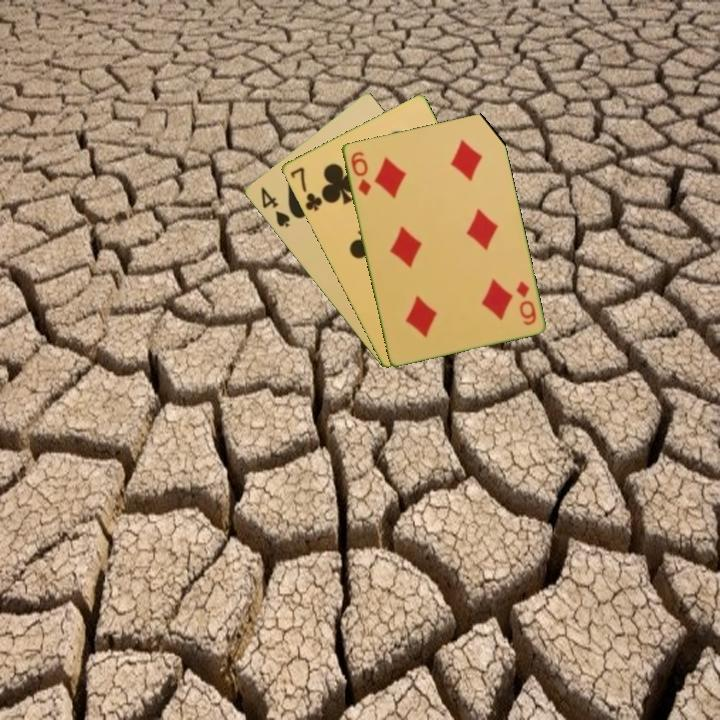4s: (257, 183, 292, 230)
6d: (512, 277, 539, 328), (347, 148, 373, 198)
7c: (286, 163, 325, 214)
